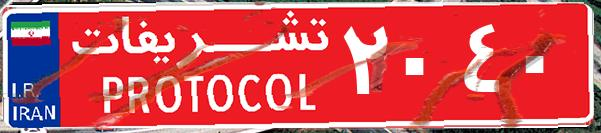0: (400, 20, 460, 115), (520, 20, 580, 115)
2: (340, 20, 400, 115)
4: (460, 20, 520, 115)
تشریفات: (60, 8, 340, 125)
